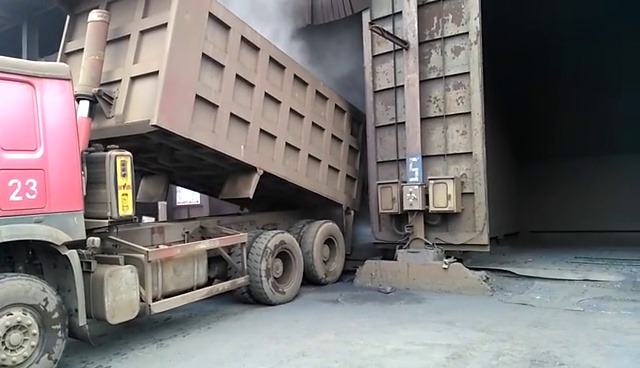dust: (217, 1, 369, 104)
truck: (0, 0, 366, 365)
